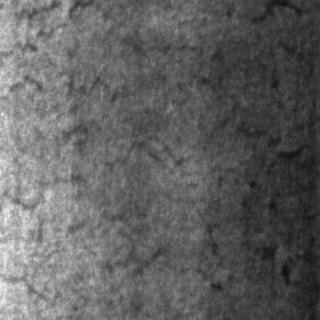crazing: (2, 1, 228, 242), (239, 135, 317, 283)
